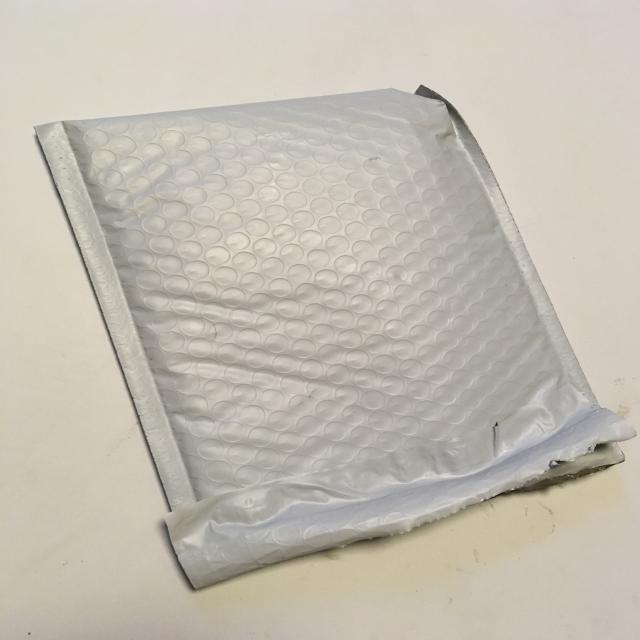plastic: (34, 84, 637, 590)
